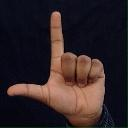hand: (6, 10, 105, 126)
